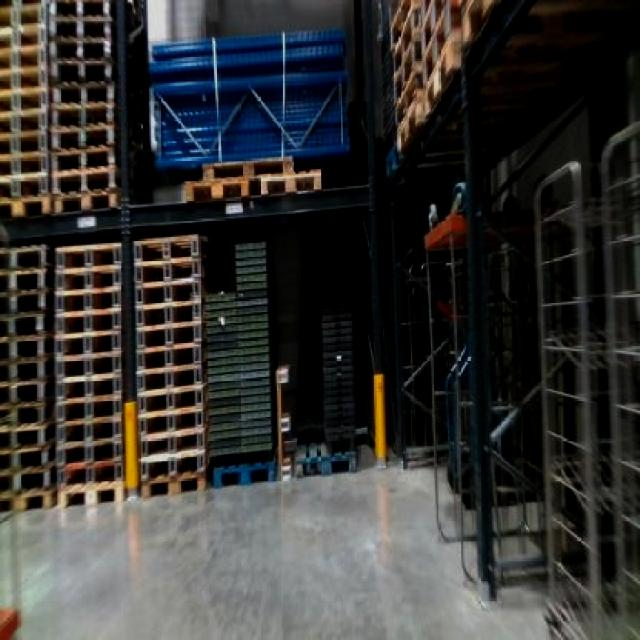pallets: (149, 28, 346, 168)
